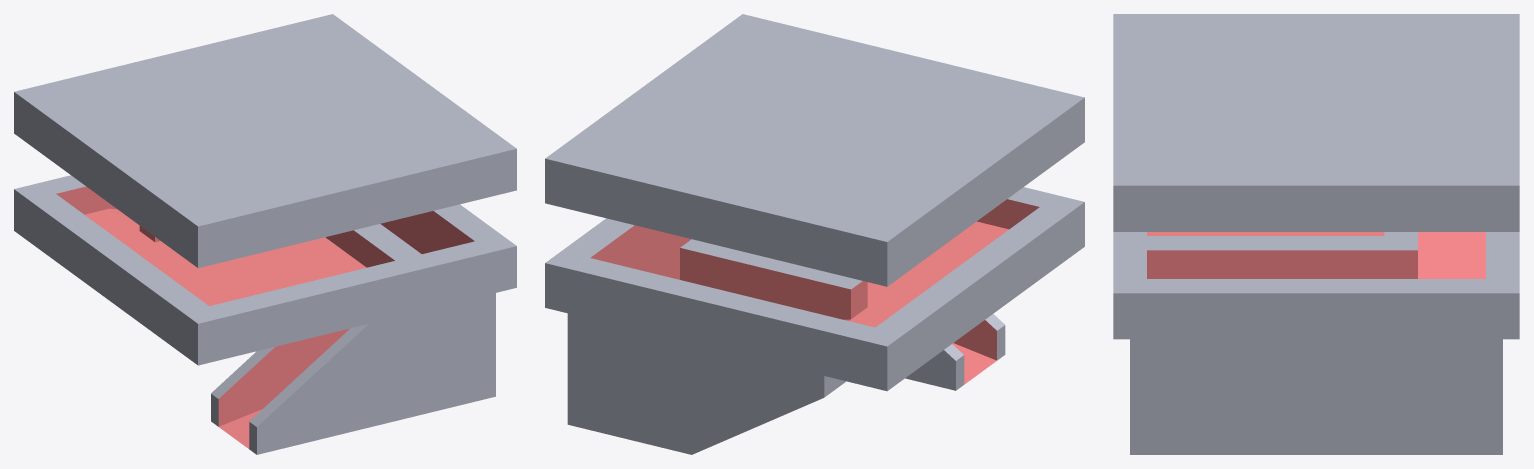
The model's file is townhouse_0003_v01.gltf.
The picture shows the model from 3 angles, left to right: view 1: azimuth 30°, elevation 25°; view 2: azimuth 150°, elevation 25°; view 3: azimuth 270°, elevation 25°; orthographic projection. The views are drawn at different scales.
Parts seen in each view (by area): view 1: group_1.003, group_1.001, group_1.002, group_1; view 2: group_1.003, group_1.001, group_1.002, group_1; view 3: group_1.003, group_1.002, group_1.001, group_1.
Part boxes in pixels (box(x1,y1,x2,y2)): group_1.003: box(14, 14, 516, 268); group_1.001: box(14, 175, 516, 365); group_1.002: box(211, 293, 495, 454); group_1: box(56, 186, 474, 448); group_1.003: box(545, 14, 1084, 286); group_1.001: box(545, 187, 1084, 391); group_1.002: box(567, 313, 1005, 454); group_1: box(590, 199, 1039, 384); group_1.003: box(1113, 14, 1519, 231); group_1.002: box(1130, 339, 1502, 454); group_1.001: box(1113, 232, 1519, 339); group_1: box(1147, 232, 1485, 278).
Size of what is drawn, in the model's own units: 12 by 9 by 12.
